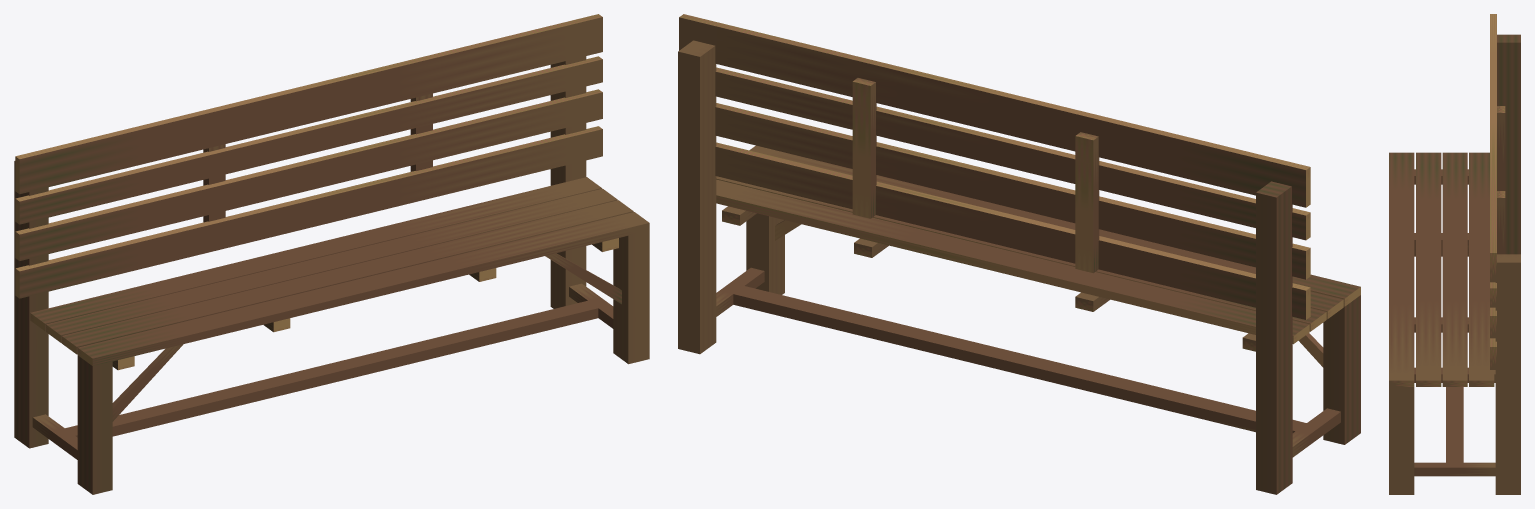
File: Woodenbench2.fbx
The picture shows the model from 3 angles, left to right: view 1: azimuth 30°, elevation 25°; view 2: azimuth 150°, elevation 25°; view 3: azimuth 270°, elevation 25°; orthographic projection. The views are drawn at different scales.
Parts seen in each view (by area): view 1: WoodBench2; view 2: WoodBench2; view 3: WoodBench2.
Part boxes in pixels (x1,y1,x2,y2): WoodBench2: [14, 14, 649, 494]; WoodBench2: [678, 14, 1360, 494]; WoodBench2: [1389, 14, 1520, 494].
Size of the model in its own units: 175 by 84.75 by 40.86.
Materials: 1 (1 with a texture image).
